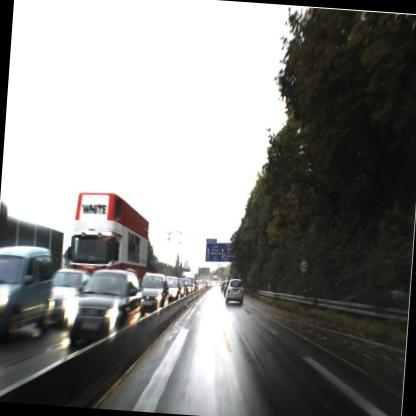prohibitory: (296, 256, 312, 281)
